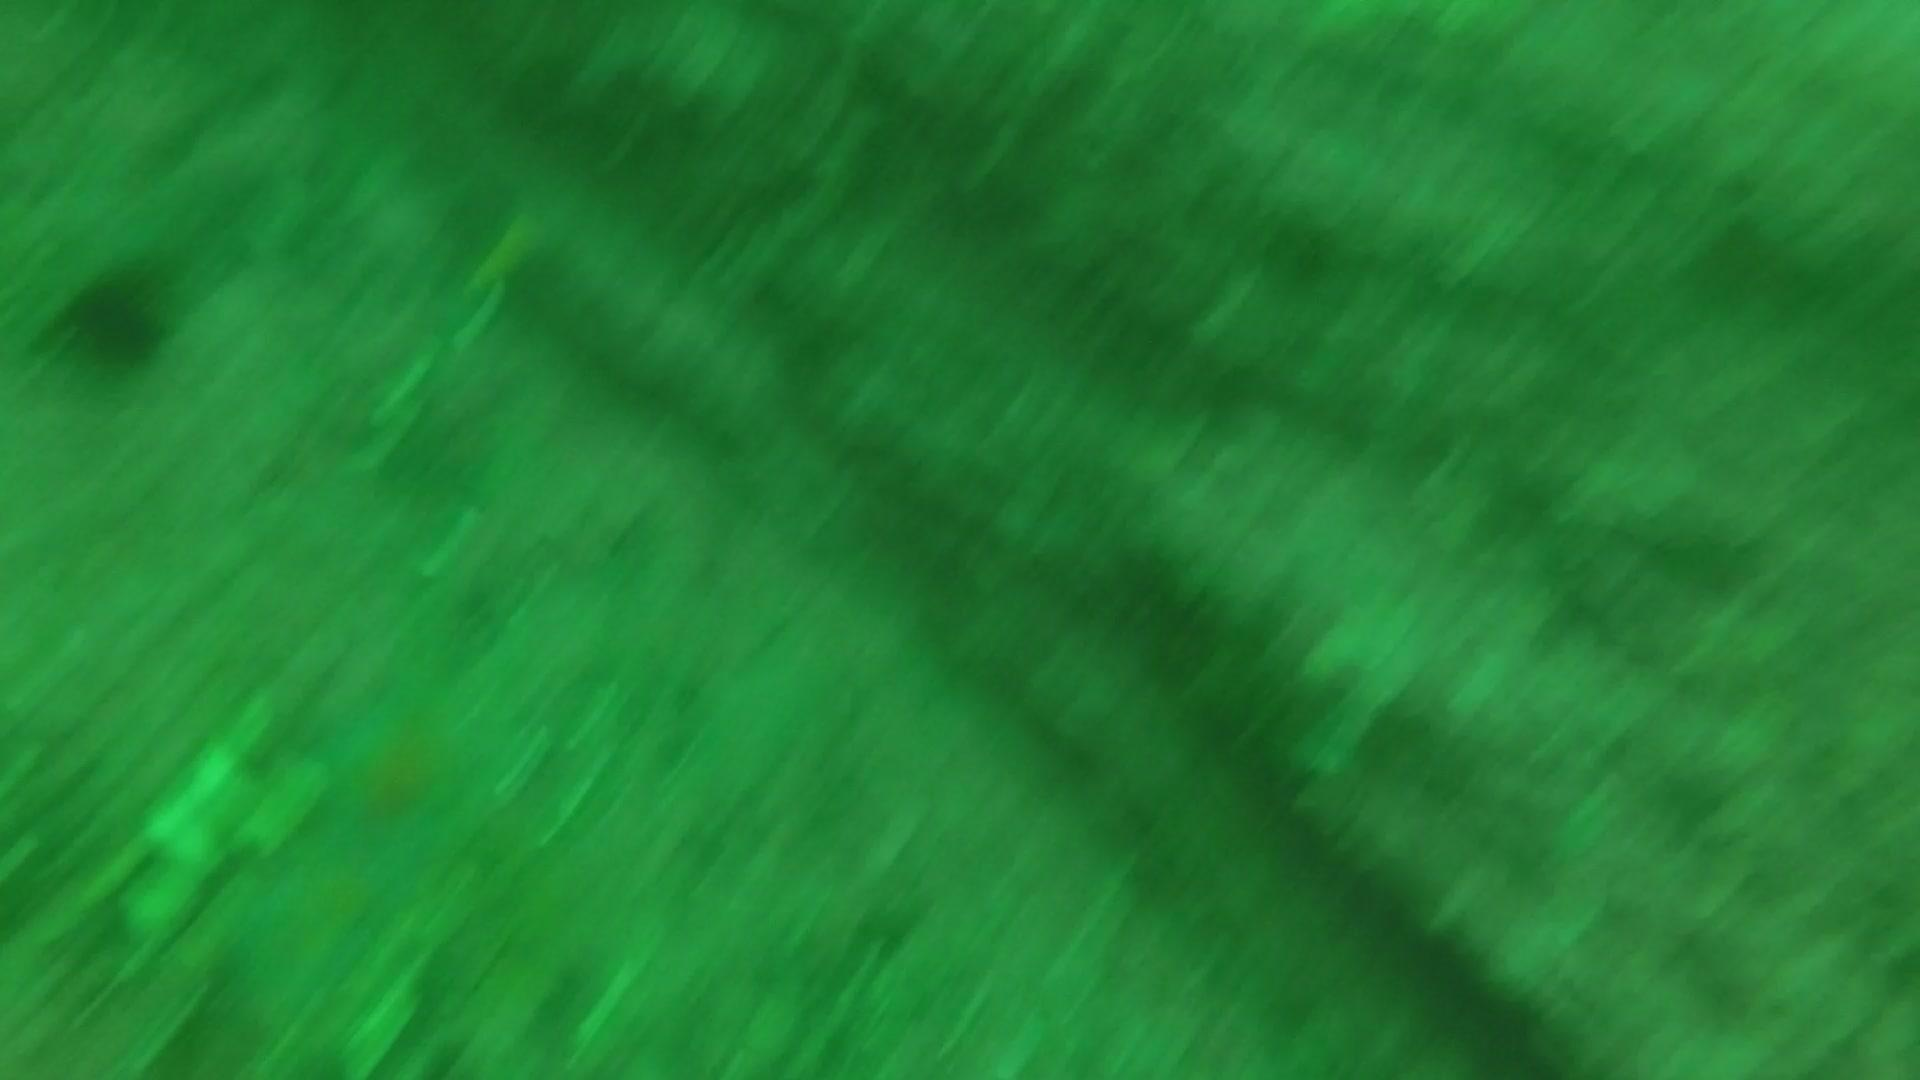echinus: (51, 255, 182, 376)
starfish: (303, 667, 505, 866)
